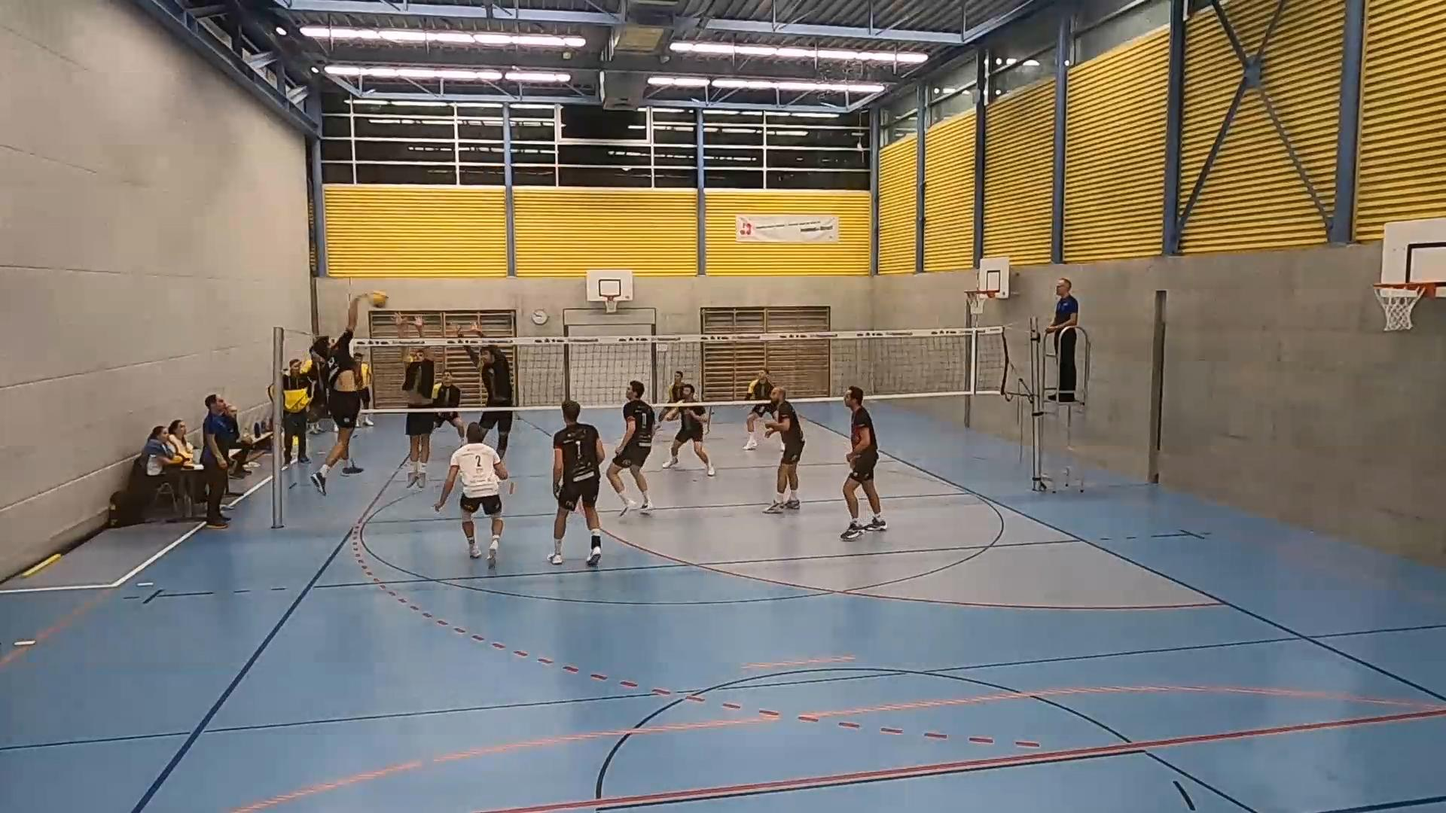attacco: (310, 306, 376, 486)
muro: (453, 314, 519, 500), (389, 307, 440, 496)
